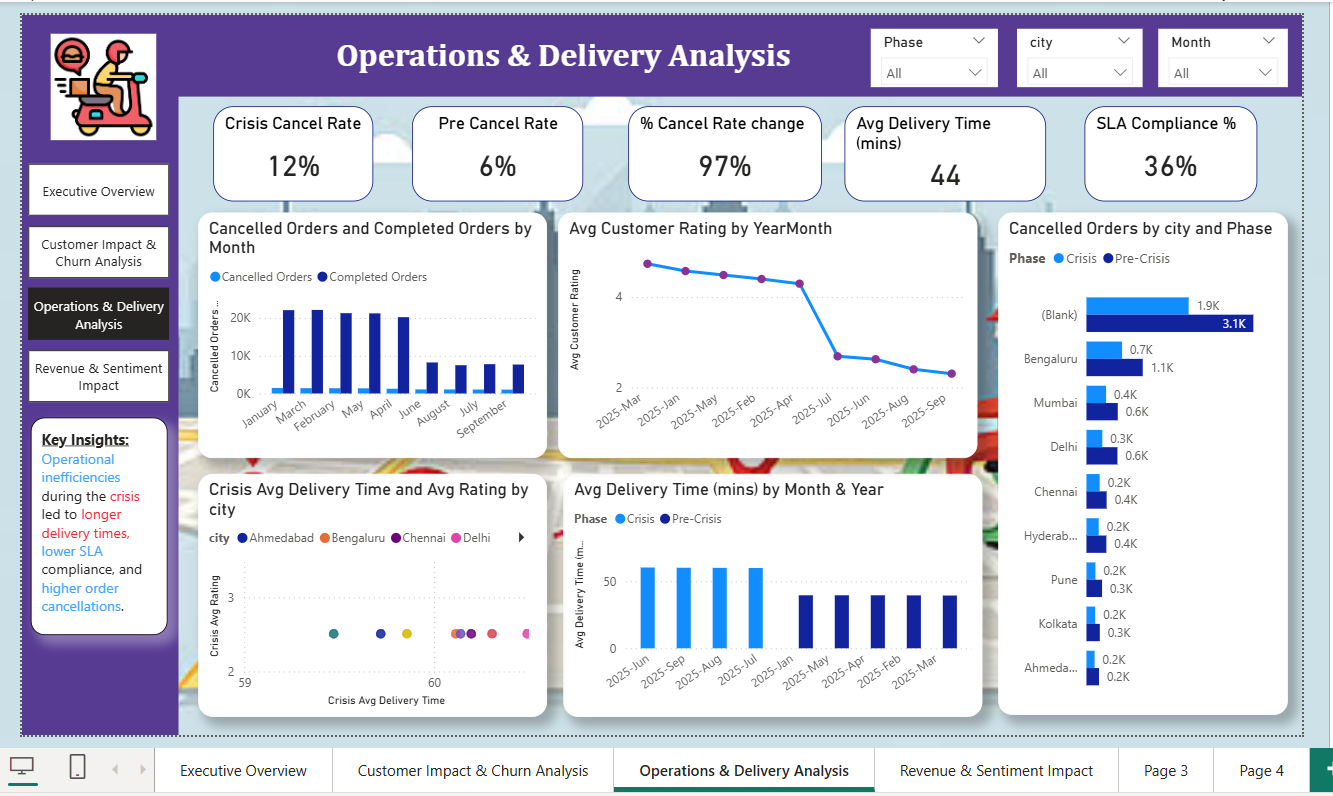

Layout of this report page (visuals, bound fields, positions):
{"tool":"powerbi","page":{"name":"Operations & Delivery Analysis","canvas":[1280,720],"ordinal":2},"visuals":[{"type":"shape","box":[126,0,1154.4,81.9],"z":0},{"type":"shape","box":[0,0,156.5,720.2],"z":1000},{"type":"textbox","box":[210.3,15.9,662.8,50.1],"z":2000},{"type":"image","box":[6.1,18.3,150.4,106.4],"z":3000},{"type":"card","title":"Crisis Cancel Rate","fields":{"Values":["fact_orders.Crisis Cancel Rate"]},"box":[190.8,91.7,160.2,95.4],"z":4000},{"type":"card","title":"Pre Cancel Rate","fields":{"Values":["fact_orders.Pre Cancel Rate"]},"box":[390.1,91.7,171.2,95.4],"z":5000},{"type":"card","title":"% Cancel Rate change","fields":{"Values":["fact_orders.Cancel Rate Change %"]},"box":[606.5,91.7,193.2,95.4],"z":6000},{"type":"card","title":"Avg Delivery Time (mins)","fields":{"Values":["fact_delivery_performance.Avg Delivery Time (mins)"]},"box":[823,91.7,201.8,95.4],"z":7000},{"type":"card","title":"SLA Compliance %","fields":{"Values":["fact_delivery_performance.SLA Compliance %"]},"box":[1062.6,91.7,172.4,95.4],"z":8000},{"type":"clusteredColumnChart","fields":{"Category":["dim_date.Month"],"Y":["fact_orders.Cancelled Orders","fact_orders.Completed Orders"]},"box":[176.1,198.1,348.5,245.8],"z":9000},{"type":"lineClusteredColumnComboChart","title":"Avg Delivery Time (mins) by Month & Year","fields":{"Category":["dim_date.YearMonth"],"Series":["dim_date.Phase"],"Y":["fact_delivery_performance.Avg Delivery Time (mins)"]},"box":[541.7,458.6,419.4,243.3],"z":10000},{"type":"lineChart","fields":{"Category":["dim_date.YearMonth"],"Y":["dim_customer.Avg Customer Rating"]},"box":[536.8,198.1,419.4,245.8],"z":11000},{"type":"scatterChart","title":"Crisis Avg Delivery Time and Avg Rating by city","fields":{"X":["fact_delivery_performance.Crisis Avg Delivery Time"],"Y":["dim_customer.Crisis Avg Rating"],"Category":["dim_customer.city"],"Series":["dim_customer.city"]},"box":[176.1,458.6,348.5,243.3],"z":12000},{"type":"clusteredBarChart","fields":{"Category":["dim_customer.city"],"Series":["dim_date.Phase"],"Y":["fact_orders.Cancelled Orders"]},"box":[975.8,198.1,289.8,502.6],"z":13000},{"type":"textbox","box":[8.6,402.3,137,217.7],"z":14000},{"type":"pageNavigator","box":[6.1,149.2,141.8,238.5],"z":15000},{"type":"slicer","fields":{"Values":["dim_date.Phase"]},"box":[848.6,13.5,127.2,58.7],"z":16000},{"type":"slicer","fields":{"Values":["dim_customer.city"]},"box":[995.4,13.5,126,58.7],"z":17000},{"type":"slicer","fields":{"Values":["dim_date.Month"]},"box":[1136,13.5,129.6,58.7],"z":18000}]}

Visuals, with their boxes on the page's 1280x720 design canvas (x1, y1, x2, y2). These are canvas units, not pixel positions in the 1333x796 screenshot, which may show the page scaled, cropped or inside an application window:
shape: <bbox>126, 0, 1280, 82</bbox>
shape: <bbox>0, 0, 156, 720</bbox>
textbox: <bbox>210, 16, 873, 66</bbox>
image: <bbox>6, 18, 156, 125</bbox>
"Crisis Cancel Rate" card: <bbox>191, 92, 351, 187</bbox>
"Pre Cancel Rate" card: <bbox>390, 92, 561, 187</bbox>
"% Cancel Rate change" card: <bbox>606, 92, 800, 187</bbox>
"Avg Delivery Time (mins)" card: <bbox>823, 92, 1025, 187</bbox>
"SLA Compliance %" card: <bbox>1063, 92, 1235, 187</bbox>
clusteredColumnChart - dim_date.Month x fact_orders.Cancelled Orders: <bbox>176, 198, 525, 444</bbox>
"Avg Delivery Time (mins) by Month & Year" lineClusteredColumnComboChart: <bbox>542, 459, 961, 702</bbox>
lineChart - dim_date.YearMonth x dim_customer.Avg Customer Rating: <bbox>537, 198, 956, 444</bbox>
"Crisis Avg Delivery Time and Avg Rating by city" scatterChart: <bbox>176, 459, 525, 702</bbox>
clusteredBarChart - dim_customer.city x dim_date.Phase: <bbox>976, 198, 1266, 701</bbox>
textbox: <bbox>9, 402, 146, 620</bbox>
pageNavigator: <bbox>6, 149, 148, 388</bbox>
slicer - dim_date.Phase: <bbox>849, 14, 976, 72</bbox>
slicer - dim_customer.city: <bbox>995, 14, 1121, 72</bbox>
slicer - dim_date.Month: <bbox>1136, 14, 1266, 72</bbox>
